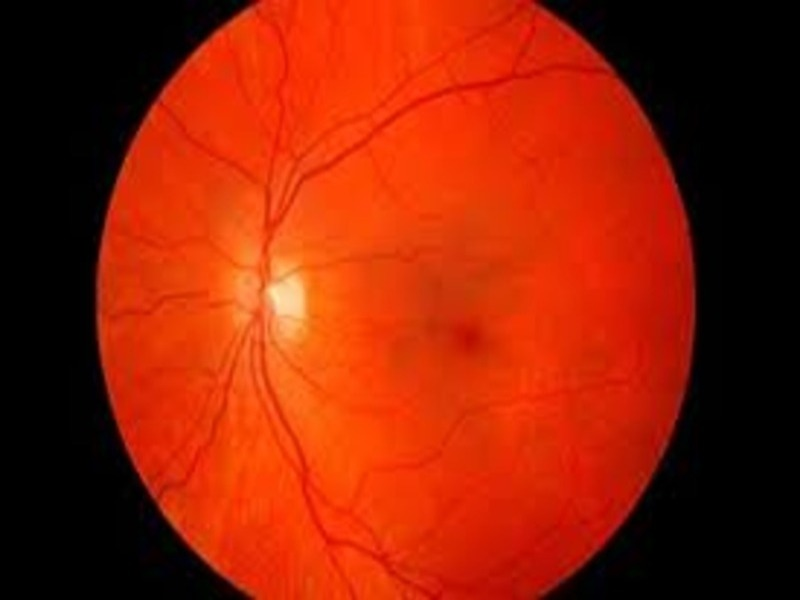Optic Cup: (269, 284, 301, 317)
Optic Disc: (232, 264, 313, 343)
